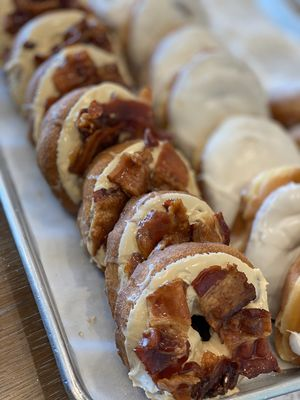salad: (76, 138, 202, 270)
